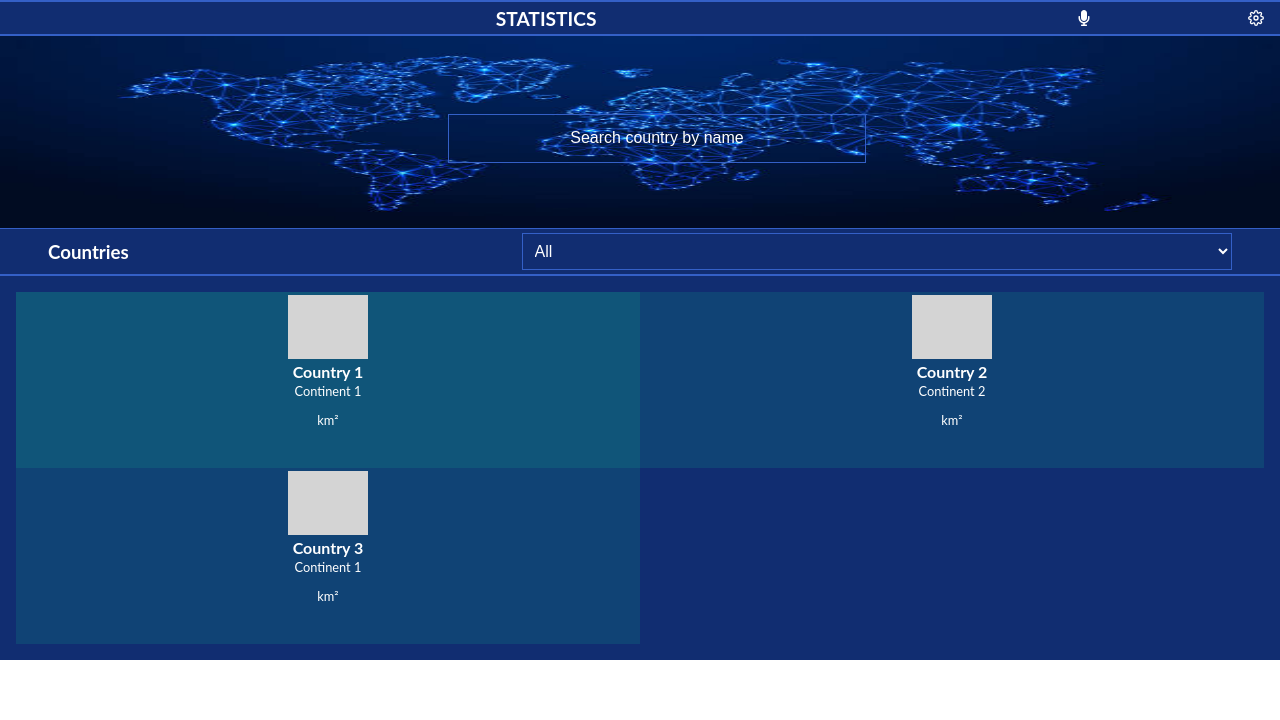
Test case: Countries component › display countries matching the search input
Type "Country 1" into the field with placeholder "Search country by name" at (657, 138), box [448,114,866,163]
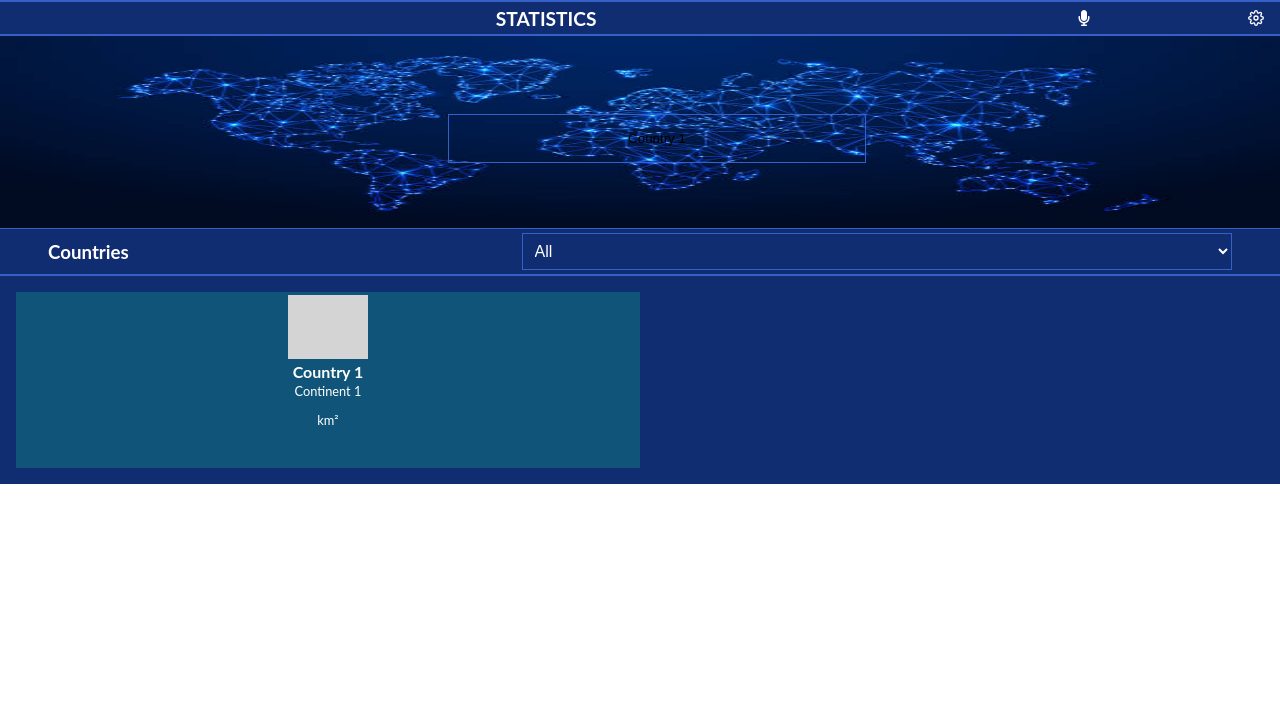
Expected: the heading "Country 1" is shown, [293,362,363,381]
Expected: the link "Country 2" is gone
